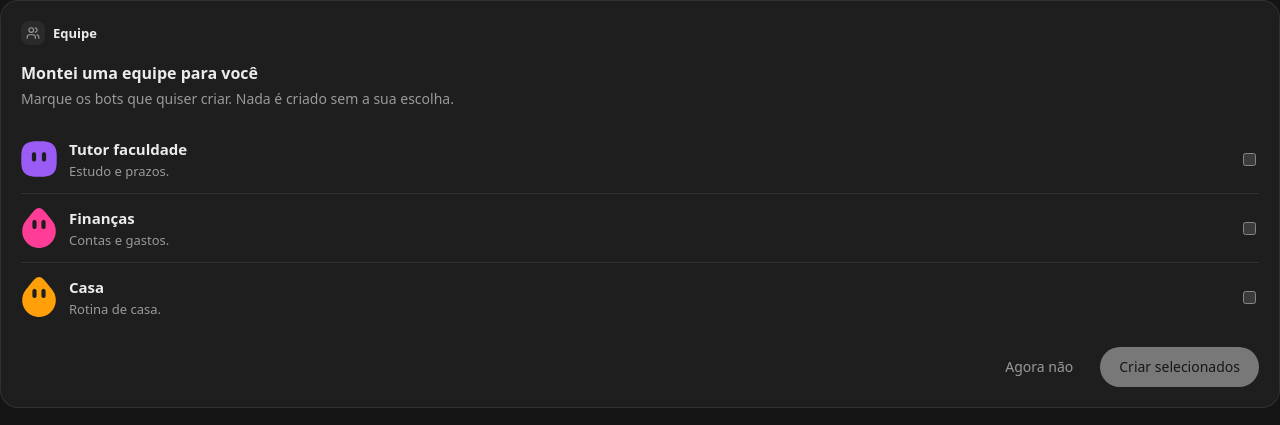
it: the team card › 'Criar selecionados' stays off until something is ticked
Expected: the button with test id "team-create" is disabled, [1100, 347, 1259, 387]
Click the checkbox named "Criar Finanças".
click(1250, 228)  # box [1243, 222, 1256, 234]
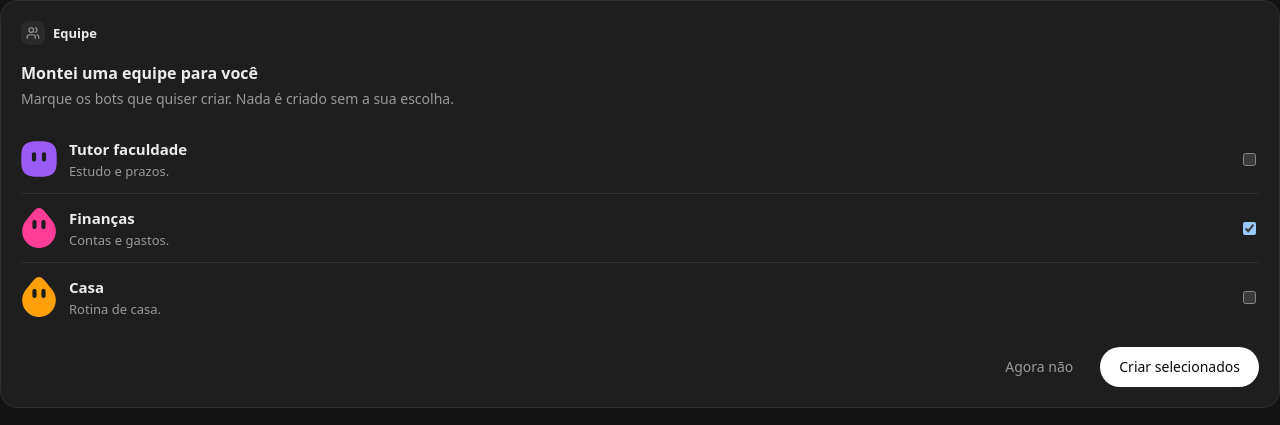
Expected: the button with test id "team-create" is enabled, [1100, 347, 1259, 387]
Click the checkbox named "Criar Finanças".
click(1250, 228)  # box [1243, 222, 1256, 234]
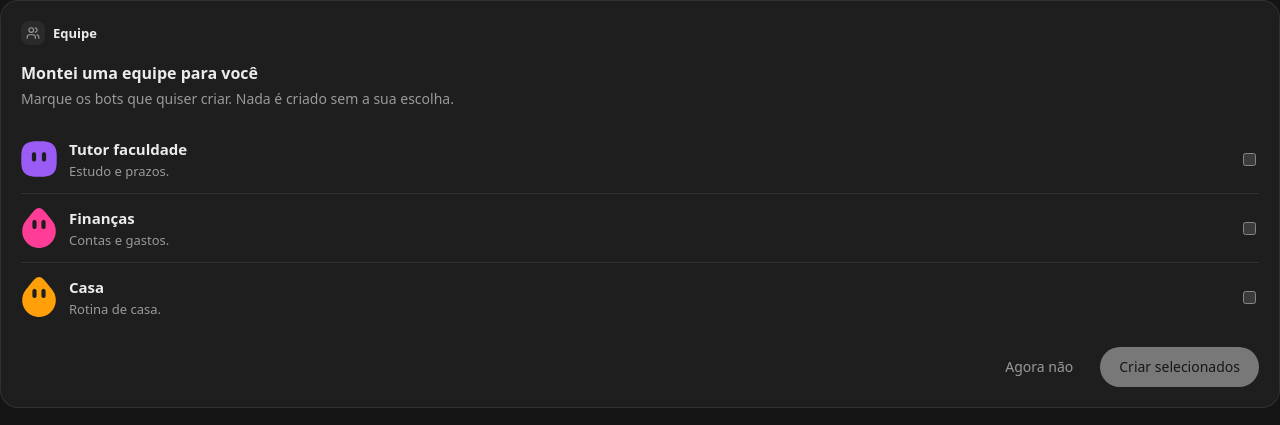
Expected: the button with test id "team-create" is disabled, [1100, 347, 1259, 387]
